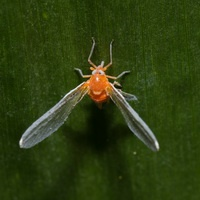insect: (19, 38, 158, 150)
